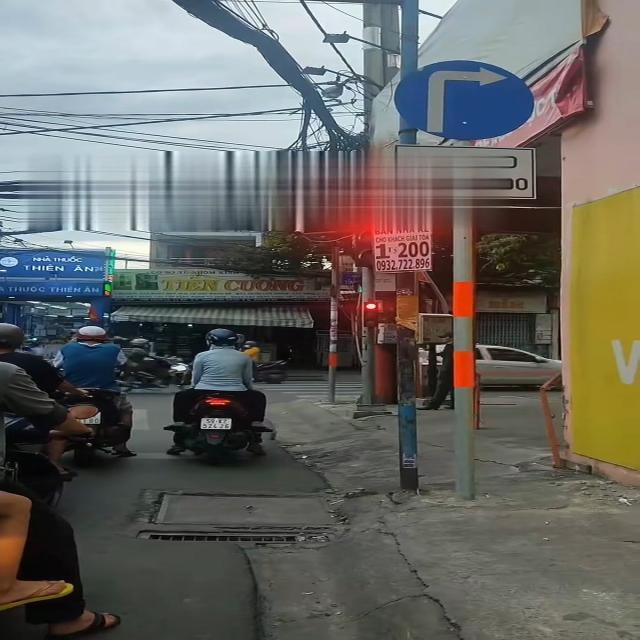301d-cac-xe-chi-duoc-re-phai-2: (397, 56, 535, 144)
